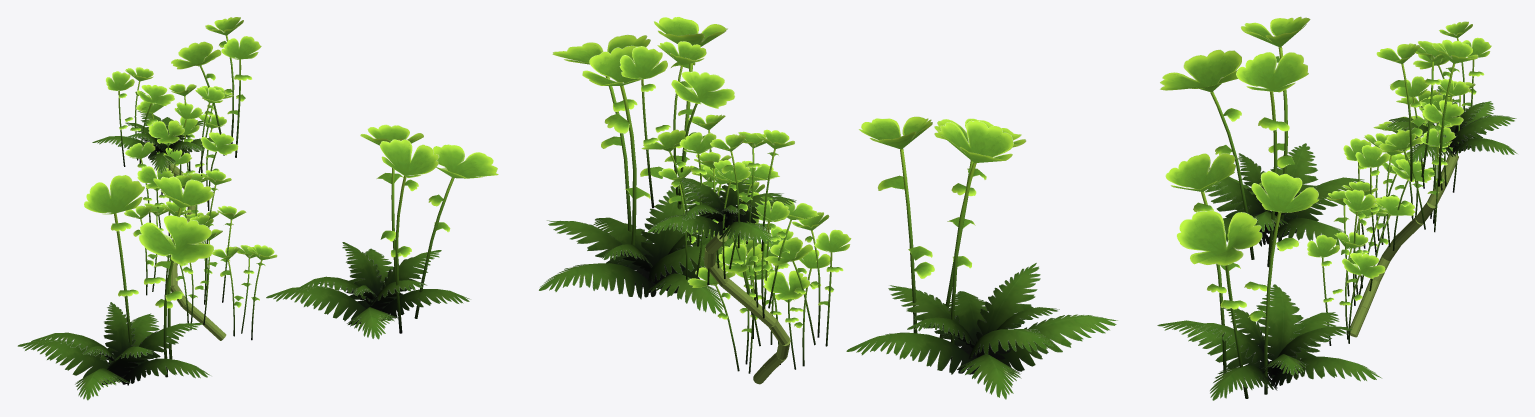
File: Cracked_Planter_Greenery.glb
3 views of the same model, side by side, from view 1: azimuth 30°, elevation 25°; view 2: azimuth 150°, elevation 25°; view 3: azimuth 270°, elevation 25° (orthographic). The views are drawn at different scales.
Visible parts, largest first — view 1: Patch_02, Patch_00, Patch_01; view 2: Patch_02, Patch_00, Patch_01; view 3: Patch_02, Patch_01, Patch_00.
Boxes of the visible parts, x1,y1,x2,y2 form: Patch_02: (92, 17, 277, 340); Patch_00: (17, 175, 213, 400); Patch_01: (266, 124, 498, 339); Patch_02: (619, 41, 851, 384); Patch_00: (846, 116, 1118, 399); Patch_01: (538, 16, 771, 314); Patch_02: (1307, 21, 1518, 345); Patch_01: (1157, 153, 1382, 400); Patch_00: (1160, 16, 1364, 267).
Bounding box in the file's own units: 1.53 × 0.9404 × 0.9731.
3 materials, 2 textured.
